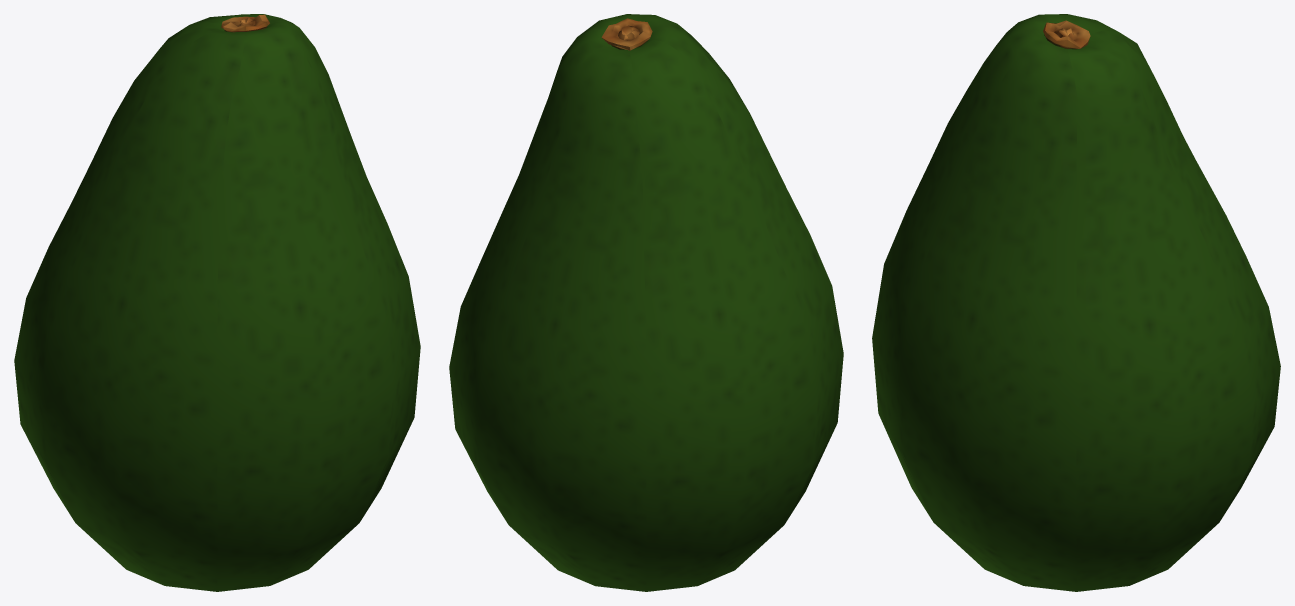
File: Avacado.fbx
3 views of the same model, side by side, from view 1: azimuth 30°, elevation 25°; view 2: azimuth 150°, elevation 25°; view 3: azimuth 270°, elevation 25° (orthographic). The views are drawn at different scales.
Parts seen in each view (by area): view 1: Avacado_LOD 0; view 2: Avacado_LOD 0; view 3: Avacado_LOD 0.
Part boxes in pixels (x1,y1,x2,y2): Avacado_LOD 0: (14,14,420,591); Avacado_LOD 0: (449,14,843,591); Avacado_LOD 0: (872,14,1280,591).
Size of what is drawn, in the model's own units: 8.04 by 12.17 by 8.04.
